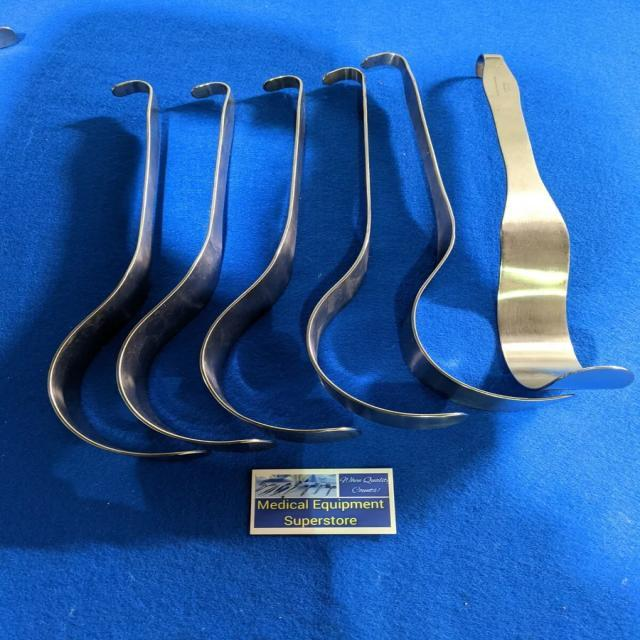Deaver Retractor: (351, 38, 569, 436), (24, 59, 204, 470), (110, 73, 286, 466), (296, 51, 456, 473), (463, 55, 620, 402), (206, 61, 345, 438)
